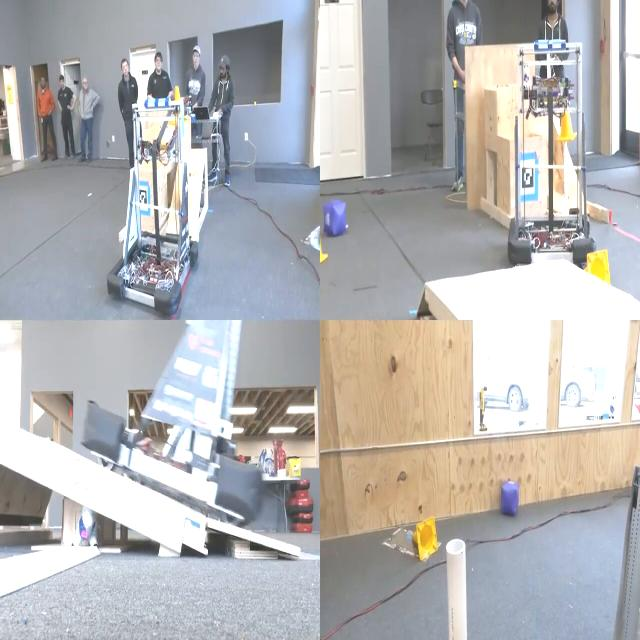frc_cone: (412, 512, 437, 561), (586, 247, 610, 289), (168, 81, 190, 126), (556, 99, 577, 145)
frc_cube: (323, 194, 349, 238), (499, 478, 521, 519)
